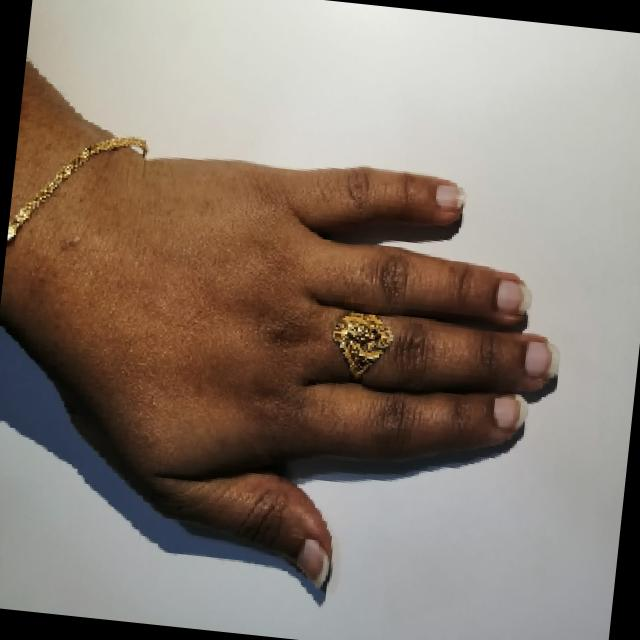Nail: (296, 537, 330, 584), (495, 278, 530, 314), (492, 393, 526, 429), (524, 340, 556, 377), (434, 182, 463, 209)
